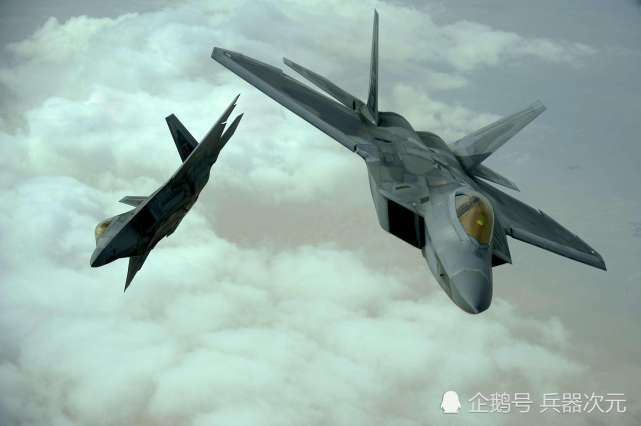airplane: (205, 9, 609, 313), (74, 95, 246, 288)
